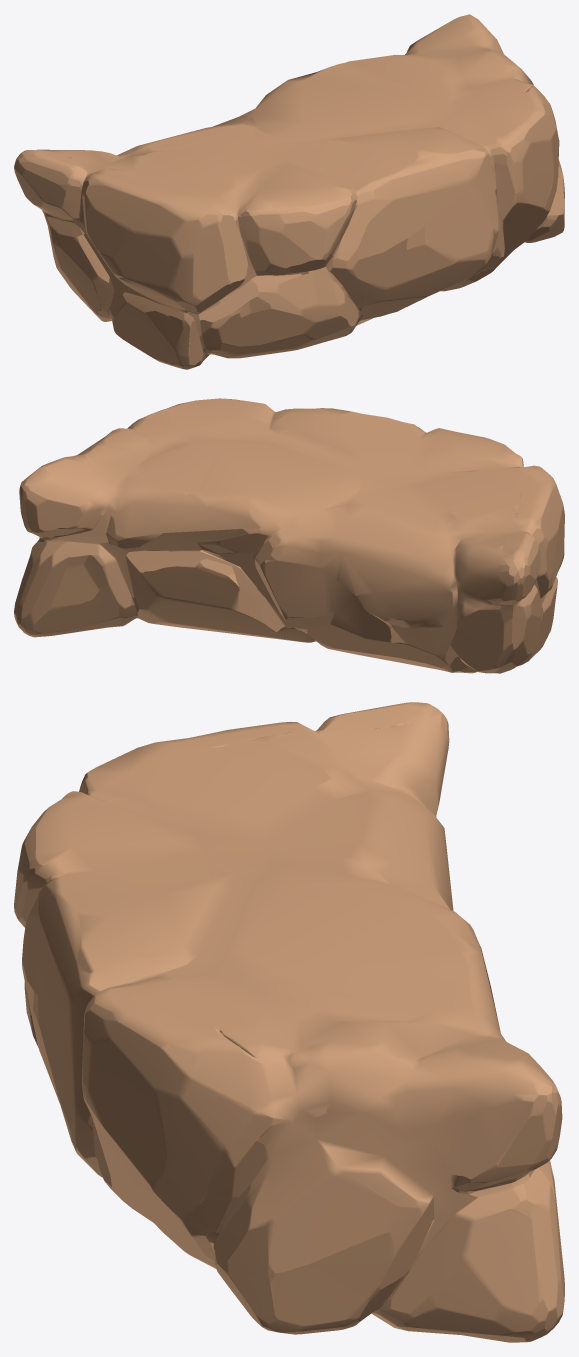
3 views of the same model, one above another, from view 1: azimuth 30°, elevation 25°; view 2: azimuth 150°, elevation 25°; view 3: azimuth 270°, elevation 25° (orthographic). The views are drawn at different scales.
Visible parts, largest first — view 1: Mesh_32_LOD0; view 2: Mesh_32_LOD0; view 3: Mesh_32_LOD0.
Part boxes in pixels (<box>): Mesh_32_LOD0: <box>14,14,564,369</box>; Mesh_32_LOD0: <box>14,398,564,673</box>; Mesh_32_LOD0: <box>14,702,564,1342</box>.
Size of what is drawn, in the model's own units: 3284 by 1119 by 1980.
